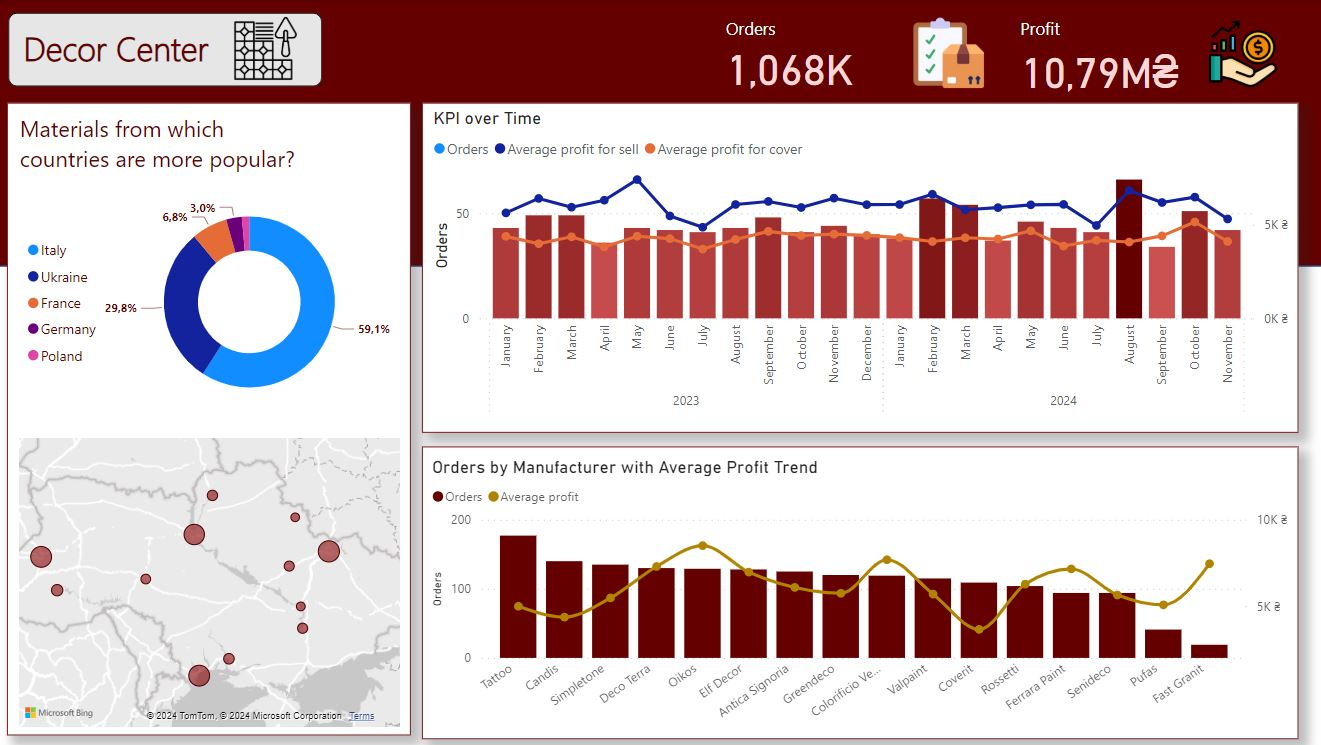

This screenshot's page, from the dashboard's own definition file:
{"tool":"powerbi","page":{"name":"General Analysis","canvas":[1280,720],"ordinal":0},"visuals":[{"type":"shape","box":[0,0,1279.6,258.1],"z":0},{"type":"cardVisual","fields":{"Data":["CountNonNull(orders.mediator_id)"]},"box":[9.6,100.1,389.5,610.3],"z":1000},{"type":"cardVisual","fields":{"Data":["CountNonNull(orders.mediator_id)"]},"box":[410.1,100.1,845.4,318.4],"z":2000},{"type":"lineClusteredColumnComboChart","title":"KPI over Time","fields":{"Category":["orders.order_date.Variation.Date Hierarchy.Year","orders.order_date.Variation.Date Hierarchy.Month","orders.order_date.Variation.Date Hierarchy.Day"],"Y":["CountNonNull(orders.order_id)"],"Y2":["Avg(main table.Profit)","Avg(main table.Profit_for_cover)"]},"box":[416.1,104.9,835.8,305.1],"z":3000},{"type":"donutChart","title":"Countries producing materials","fields":{"Category":["main table.country"],"Y":["Count(main table.order_id)"]},"box":[24.1,166.4,363,252.1],"z":4000},{"type":"map","fields":{"Category":["orders.city"],"Size":["CountNonNull(orders.order_id)"]},"box":[16.9,418.5,377.5,289.4],"z":5000},{"type":"cardVisual","fields":{"Data":["CountNonNull(orders.mediator_id)"]},"box":[410.1,431.8,845.4,282.2],"z":6000},{"type":"lineClusteredColumnComboChart","title":"Orders by Manufacturer with Average Profit Trend","fields":{"Category":["main table.manufacturer_name"],"Y":["CountNonNull(main table.order_id)"],"Y2":["Avg(main table.Profit)"]},"box":[414.9,441.4,835.8,266.5],"z":7000},{"type":"textbox","box":[16.9,104.9,285.8,100.1],"z":8000},{"type":"cardVisual","fields":{"Data":["Count(main table.order_id)","Sum(main table.Profit)"]},"box":[686.2,0,569.2,96.5],"z":9000},{"type":"shape","title":"Decor Center","box":[10.9,13.3,302.7,71.2],"z":10000},{"type":"textbox","box":[20.5,20.5,200.2,56.7],"z":11000},{"type":"image","box":[220.7,10.9,77.2,73.6],"z":12000}]}

Visuals, with their boxes in screenshot pixels (x1, y1, x2, y2), scaled from the page's 1280x720 canvas onto the 1321x745 screenshot:
shape: {"left": 0, "top": 0, "right": 1320, "bottom": 267}
cardVisual - CountNonNull(orders.mediator_id): {"left": 10, "top": 104, "right": 412, "bottom": 735}
cardVisual - CountNonNull(orders.mediator_id): {"left": 423, "top": 104, "right": 1296, "bottom": 433}
"KPI over Time" lineClusteredColumnComboChart: {"left": 429, "top": 109, "right": 1292, "bottom": 424}
"Countries producing materials" donutChart: {"left": 25, "top": 172, "right": 399, "bottom": 433}
map - orders.city x CountNonNull(orders.order_id): {"left": 17, "top": 433, "right": 407, "bottom": 732}
cardVisual - CountNonNull(orders.mediator_id): {"left": 423, "top": 447, "right": 1296, "bottom": 739}
"Orders by Manufacturer with Average Profit Trend" lineClusteredColumnComboChart: {"left": 428, "top": 457, "right": 1291, "bottom": 732}
textbox: {"left": 17, "top": 109, "right": 312, "bottom": 212}
cardVisual - Count(main table.order_id) x Sum(main table.Profit): {"left": 708, "top": 0, "right": 1296, "bottom": 100}
"Decor Center" shape: {"left": 11, "top": 14, "right": 324, "bottom": 87}
textbox: {"left": 21, "top": 21, "right": 228, "bottom": 80}
image: {"left": 228, "top": 11, "right": 307, "bottom": 87}
